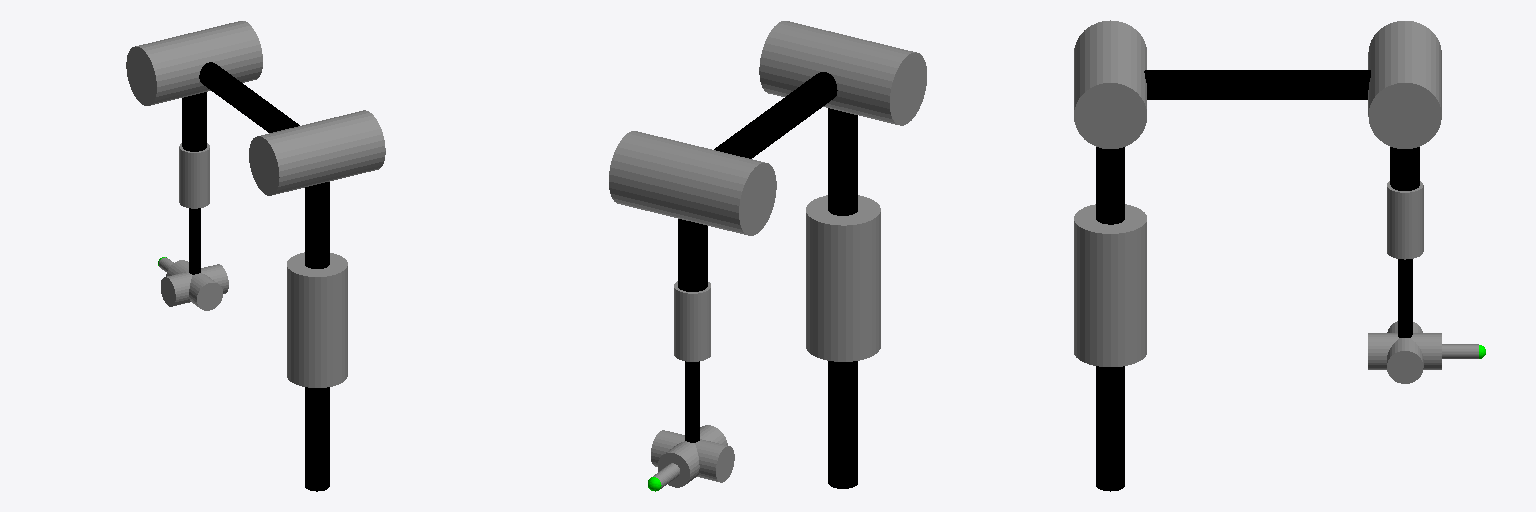
The robot description file, URDF, robot "sixdof":
<?xml version="1.0"?>

<robot name="sixdof">
  
  <!-- *************************************************** -->
  <!-- ******************** Kinematics ******************* -->
  <!-- *************************************************** -->

  <link name="world"/>

  <joint name="theta1" type="continuous">
    <parent link="world"/>
    <child  link="link1"/>
    <origin xyz="0 0 0.6" rpy="0 0 0"/>
    <axis   xyz="0 0 1"/>
    <dynamics damping="5.0"/>
  </joint>

  <link name="link1"/>

  <joint name="theta2" type="continuous">
    <parent link="link1"/>
    <child  link="link2"/>
    <origin xyz="0 0 0" rpy="0 0 0"/>
    <axis   xyz="1 0 0"/>
    <dynamics damping="5.0"/>
  </joint>

  <link name="link2"/>

  <joint name="attach-shoulder" type="fixed">
    <parent link="link2"/>
    <child  link="shoulder"/>
  </joint>

  <link name="shoulder"/>

  <joint name="theta3" type="continuous">
    <parent link="link2"/>
    <child  link="link3"/>
    <origin xyz="0 0.4 0" rpy="-1.5708 0 0"/>
    <axis   xyz="1 0 0 "/>
    <dynamics damping="1.0"/>
  </joint>

  <link name="link3"/>

  <joint name="attach-elbow" type="fixed">
    <parent link="link3"/>
    <child  link="elbow"/>
  </joint>

  <link name="elbow"/>

  <joint name="theta4" type="continuous">
    <parent link="link3"/>
    <child  link="link4"/>
    <origin xyz="0 0.4 0" rpy="0 0 0"/>
    <axis   xyz="0 1 0"/>
    <dynamics damping="0.2"/>
  </joint>

  <link name="link4"/>

  <joint name="theta5" type="continuous">
    <parent link="link4"/>
    <child  link="link5"/>
    <origin xyz="0 0 0" rpy="0 0 0"/>
    <axis   xyz="0 0 1"/>
    <dynamics damping="0.2"/>
  </joint>

  <link name="link5"/>

  <joint name="theta6" type="continuous">
    <parent link="link5"/>
    <child  link="link6"/>
    <origin xyz="0 0 0" rpy="0 0 0"/>
    <axis   xyz="1 0 0"/>
    <dynamics damping="0.2"/>
  </joint>

  <link name="link6"/>

  <joint name="final" type="fixed">
    <parent link="link6"/>
    <child  link="tip"/>
    <origin xyz="0 0 0.1" rpy="1.5708 0 0"/>
  </joint>

  <link name="tip"/>


  <!-- *************************************************** -->
  <!-- ******************* RVIZ Colors ******************* -->
  <!-- *************************************************** -->

  <material name="white">    <color rgba="1.00 1.00 1.00 1"/>  </material>
  <material name="gray">     <color rgba="0.60 0.60 0.60 1"/>  </material>
  <material name="table">    <color rgba="0.85 0.77 0.77 1"/>  </material>
  <material name="black">    <color rgba="0.00 0.00 0.00 1"/>  </material>

  <material name="red">      <color rgba="1.00 0.00 0.00 1"/>  </material>
  <material name="green">    <color rgba="0.00 1.00 0.00 1"/>  </material>
  <material name="blue">     <color rgba="0.00 0.00 1.00 1"/>  </material>

  <material name="cyan">     <color rgba="0.00 1.00 1.00 1"/>  </material>
  <material name="magenta">  <color rgba="1.00 0.00 1.00 1"/>  </material>
  <material name="yellow">   <color rgba="1.00 1.00 0.00 1"/>  </material>

  <material name="orange">   <color rgba="1.00 0.65 0.00 1"/>  </material>


  <!-- *************************************************** -->
  <!-- ****** Building Blocks (Visual AND Inertial) ****** -->
  <!-- *************************************************** -->

  <!-- *** World-Fixed: Mount 1, Motor 1 *** -->

  <joint name="attach-mount1" type="fixed">
    <parent link="world"/>
    <child  link="mount1"/>
  </joint>
  <link name="mount1">
    <visual>
      <origin xyz="0 0 0.1" rpy="0 0 0"/>
      <geometry>
	<cylinder length="0.2" radius="0.02"/>
      </geometry>
      <material name="black"/>
    </visual>
    <collision>
      <origin xyz="0 0 0.1" rpy="0 0 0"/>
      <geometry>
	<cylinder length="0.2" radius="0.02"/>
      </geometry>
    </collision>
    <inertial>
      <origin xyz="0 0 0.1" rpy="0 0 0"/>
      <mass value="0.2"/>
      <inertia
        ixx="0.000687" ixy="0.0" ixz="0.0"
        iyy="0.000687" iyz="0.0"
        izz="0.000040"/>
    </inertial>
  </link>

  <joint name="attach-motor1" type="fixed">
    <parent link="world"/>
    <child  link="motor1"/>
  </joint>
  <link name="motor1">
    <visual>
      <origin xyz="0 0 0.3" rpy="0 0 0"/>
      <geometry>
	<cylinder length="0.2" radius="0.05"/>
      </geometry>
      <material name="gray"/>
    </visual>
    <collision>
      <origin xyz="0 0 0.3" rpy="0 0 0"/>
      <geometry>
	<cylinder length="0.2" radius="0.05"/>
      </geometry>
    </collision>
    <inertial>
      <origin xyz="0 0 0.3" rpy="0 0 0"/>
      <mass value="2.0"/>
      <inertia
        ixx="0.007917" ixy="0.0" ixz="0.0"
        iyy="0.007917" iyz="0.0"
        izz="0.002500"/>
    </inertial>
  </link>

  <!-- *** Motor 1 Output: Mount 2, Motor 2 *** -->

  <joint name="attach-mount2" type="fixed">
    <parent link="link1"/>
    <child  link="mount2"/>
  </joint>
  <link name="mount2">
    <visual>
      <origin xyz="0 0 -0.1" rpy="0 0 0"/>
      <geometry>
	<cylinder length="0.2" radius="0.02"/>
      </geometry>
      <material name="black"/>
    </visual>
    <collision>
      <origin xyz="0 0 -0.1" rpy="0 0 0"/>
      <geometry>
	<cylinder length="0.2" radius="0.02"/>
      </geometry>
    </collision>
    <inertial>
      <origin xyz="0 0 -0.1" rpy="0 0 0"/>
      <mass value="0.2"/>
      <inertia
        ixx="0.000687" ixy="0.0" ixz="0.0"
        iyy="0.000687" iyz="0.0"
        izz="1.000040"/>
    </inertial>
  </link>

  <joint name="attach-motor2" type="fixed">
    <parent link="link1"/>
    <child  link="motor2"/>
  </joint>
  <link name="motor2">
    <visual>
      <origin xyz="0 0 0" rpy="0 1.5708 0"/>
      <geometry>
	<cylinder length="0.2" radius="0.05"/>
      </geometry>
      <material name="gray"/>
    </visual>
    <collision>
      <origin xyz="0 0 0" rpy="0 1.5708 0"/>
      <geometry>
	<cylinder length="0.2" radius="0.05"/>
      </geometry>
    </collision>
    <inertial>
      <origin xyz="0 0 0" rpy="0 1.5708 0"/>
      <mass value="2.0"/>
      <inertia
        ixx="0.007917" ixy="0.0" ixz="0.0"
        iyy="0.007917" iyz="0.0"
        izz="0.002500"/>
    </inertial>
  </link>

  <!-- *** Motor 2 Output: Mount 3, Motor 3 *** -->

  <joint name="attach-mount3" type="fixed">
    <parent link="link2"/>
    <child  link="mount3"/>
  </joint>
  <link name="mount3">
    <visual>
      <origin xyz="0 0.1 0" rpy="1.5708 0 0"/>
      <geometry>
	<cylinder length="0.2" radius="0.02"/>
      </geometry>
      <material name="black"/>
    </visual>
    <collision>
      <origin xyz="0 0.1 0" rpy="1.5708 0 0"/>
      <geometry>
	<cylinder length="0.2" radius="0.02"/>
      </geometry>
    </collision>
    <inertial>
      <origin xyz="0 0.1 0" rpy="1.5708 0 0"/>
      <mass value="0.2"/>
      <inertia
        ixx="1.000687" ixy="0.0" ixz="0.0"
        iyy="0.000687" iyz="0.0"
        izz="0.000040"/>
    </inertial>
  </link>

  <!-- <joint name="attach-motor3" type="fixed">
    <parent link="link2"/>
    <child  link="motor3"/>
  </joint>
  <link name="motor3">
    <visual>
      <origin xyz="0 0.2 0" rpy="1.5708 0 0"/>
      <geometry>
	<cylinder length="0.2" radius="0.05"/>
      </geometry>
      <material name="gray"/>
    </visual>
    <collision>
      <origin xyz="0 0.2 0" rpy="1.5708 0 0"/>
      <geometry>
	<cylinder length="0.2" radius="0.05"/>
      </geometry>
    </collision>
    <inertial>
      <origin xyz="0 0.2 0" rpy="1.5708 0 0"/>
      <mass value="2.0"/>
      <inertia
        ixx="0.007917" ixy="0.0" ixz="0.0"
        iyy="0.007917" iyz="0.0"
        izz="0.002500"/>
    </inertial>
  </link> -->

  <!-- *** Motor 3 Output: Mount 4, Motor 4 *** -->

  <joint name="attach-mount4" type="fixed">
    <parent link="link2"/>
    <child  link="mount4"/>
  </joint>
  <link name="mount4">
    <visual>
      <origin xyz="0 0.3 0" rpy="1.5708 0 0"/>
      <geometry>
	<cylinder length="0.2" radius="0.02"/>
      </geometry>
      <material name="black"/>
    </visual>
    <collision>
      <origin xyz="0 0.3 0" rpy="1.5708 0 0"/>
      <geometry>
	<cylinder length="0.2" radius="0.02"/>
      </geometry>
    </collision>
    <inertial>
      <origin xyz="0 0.3 0" rpy="1.5708 0 0"/>
      <mass value="0.2"/>
      <inertia
        ixx="0.000687" ixy="0.0" ixz="0.0"
        iyy="0.000687" iyz="0.0"
        izz="1.000040"/>
    </inertial>
  </link>

  <joint name="attach-motor3" type="fixed">
    <parent link="link2"/>
    <child  link="motor3"/>
  </joint>
  <link name="motor3">
    <visual>
      <origin xyz="0 0.4 0" rpy="0 1.5708 0"/>
      <geometry>
	<cylinder length="0.2" radius="0.05"/>
      </geometry>
      <material name="gray"/>
    </visual>
    <collision>
      <origin xyz="0 0.4 0" rpy="0 1.5708 0"/>
      <geometry>
	<cylinder length="0.2" radius="0.05"/>
      </geometry>
    </collision>
    <inertial>
      <origin xyz="0 0.4 0" rpy="0 1.5708 0"/>
      <mass value="2.0"/>
      <inertia
        ixx="0.007917" ixy="0.0" ixz="0.0"
        iyy="0.007917" iyz="0.0"
        izz="0.002500"/>
    </inertial>
  </link>

  <!-- *** Motor 4 Output: Mount 5, Motor 5 *** -->

  <joint name="attach-mount5" type="fixed">
    <parent link="link3"/>
    <child  link="mount5"/>
  </joint>
  <link name="mount5">
    <visual>
      <origin xyz="0 0.1 0" rpy="1.5708 0 0"/>
      <geometry>
	<cylinder length="0.2" radius="0.02"/>
      </geometry>
      <material name="black"/>
    </visual>
    <collision>
      <origin xyz="0 0.1 0" rpy="1.5708 0 0"/>
      <geometry>
	<cylinder length="0.2" radius="0.02"/>
      </geometry>
    </collision>
    <inertial>
      <origin xyz="0 0.1 0" rpy="1.5708 0 0"/>
      <mass value="0.2"/>
      <inertia
        ixx="0.500687" ixy="0.0" ixz="0.0"
        iyy="0.000687" iyz="0.0"
        izz="0.000040"/>
    </inertial>
  </link>

  <joint name="attach-motor4" type="fixed">
    <parent link="link3"/>
    <child  link="motor4"/>
  </joint>
  <link name="motor4">
    <visual>
      <origin xyz="0 0.2 0" rpy="1.5708 0 0"/>
      <geometry>
	<cylinder length="0.1" radius="0.025"/>
      </geometry>
      <material name="gray"/>
    </visual>
    <collision>
      <origin xyz="0 0.2 0" rpy="1.5708 0 0"/>
      <geometry>
	<cylinder length="0.1" radius="0.025"/>
      </geometry>
    </collision>
    <inertial>
      <origin xyz="0 0.2 0" rpy="1.5708 0 0"/>
      <mass value="1.0"/>
      <inertia
        ixx="0.000990" ixy="0.0" ixz="0.0"
        iyy="0.000990" iyz="0.0"
        izz="0.000313"/>
    </inertial>
  </link>

  <!-- *** Motor 5 Output: Mount 6, Motor 6 *** -->

  <joint name="attach-mount6" type="fixed">
    <parent link="link4"/>
    <child  link="mount6"/>
  </joint>
  <link name="mount6">
    <visual>
      <origin xyz="0 -0.1 0" rpy="1.5708 0 0"/>
      <geometry>
	<cylinder length="0.2" radius="0.01"/>
      </geometry>
      <material name="black"/>
    </visual>
    <collision>
      <origin xyz="0 -0.1 0" rpy="1.5708 0 0"/>
      <geometry>
	<cylinder length="0.2" radius="0.01"/>
      </geometry>
    </collision>
    <inertial>
      <origin xyz="0 -0.1 0" rpy="1.5708 0 0"/>
      <mass value="0.1"/>
      <inertia
        ixx="0.000336" ixy="0.0" ixz="0.0"
        iyy="0.000336" iyz="0.0"
        izz="0.500005"/>
    </inertial>
  </link>

  <joint name="attach-motor5" type="fixed">
    <parent link="link4"/>
    <child  link="motor5"/>
  </joint>
  <link name="motor5">
    <visual>
      <origin xyz="0 0 0" rpy="0 0 0"/>
      <geometry>
	<cylinder length="0.1" radius="0.025"/>
      </geometry>
      <material name="gray"/>
    </visual>
    <collision>
      <origin xyz="0 0 0" rpy="0 0 0"/>
      <geometry>
	<cylinder length="0.1" radius="0.025"/>
      </geometry>
    </collision>
    <inertial>
      <origin xyz="0 0 0" rpy="0 0 0"/>
      <mass value="1.0"/>
      <inertia
        ixx="0.000990" ixy="0.0" ixz="0.0"
        iyy="0.000990" iyz="0.0"
        izz="0.000313"/>
    </inertial>
  </link>

  <!-- *** Motor 6 Output: Motor 7 *** -->

  <joint name="attach-motor6" type="fixed">
    <parent link="link5"/>
    <child  link="motor6"/>
  </joint>
  <link name="motor6">
    <visual>
      <origin xyz="0 0 0" rpy="0 1.5708 0"/>
      <geometry>
	<cylinder length="0.1" radius="0.025"/>
      </geometry>
      <material name="gray"/>
    </visual>
    <collision>
      <origin xyz="0 0 0" rpy="0 1.5708 0"/>
      <geometry>
	<cylinder length="0.1" radius="0.025"/>
      </geometry>
    </collision>
    <inertial>
      <origin xyz="0 0 0" rpy="0 1.5708 0"/>
      <mass value="1.0"/>
      <inertia
        ixx="0.500990" ixy="0.0" ixz="0.0"
        iyy="0.000990" iyz="0.0"
        izz="0.000313"/>
    </inertial>
  </link>

  <!-- *** Drawing Sphere *** -->

  <joint name="attach-sphere" type="fixed">
    <parent link="tip"/>
    <child  link="sphere"/>
  </joint>
  <link name="sphere">
    <visual>
      <origin xyz="0 0 0" rpy="0 0 0"/>
      <geometry>
	      <sphere radius="0.01"/>
      </geometry>
      <material name="green"/>
    </visual>
    <collision>
      <origin xyz="0 0 0" rpy="0 0 0"/>
      <geometry>
	      <sphere radius="0.01"/>
      </geometry>
      <material name="green"/>
    </collision>
    <inertial>
      <origin xyz="0 0 0" rpy="0 0 0"/>
      <mass value="1.0"/>
      <inertia
        ixx="0.01" ixy="0.0" ixz="0.0"
        iyy="0.01" iyz="0.0"
        izz="0.01"/>
    </inertial>
  </link>


  <joint name="attach-cylinder" type="fixed">
    <parent link="tip"/>
    <child  link="cylinder"/>
  </joint>
  <link name="cylinder">
    <visual>
      <origin xyz="0 -0.05 0" rpy="1.5708 0 0"/>
      <geometry>
	      <cylinder length="0.1" radius="0.01"/>
      </geometry>
      <material name="gray"/>
    </visual>
    <collision>
      <origin xyz="0 -0.05 0" rpy="1.5708 0 0"/>
      <geometry>
	      <cylinder length="0.1" radius="0.01"/>
      </geometry>
    </collision>
    <inertial>
      <origin xyz="0 0 0" rpy="0 1.5708 0"/>
      <mass value="1.0"/>
      <inertia
        ixx="0.500990" ixy="0.0" ixz="0.0"
        iyy="0.000990" iyz="0.0"
        izz="0.000313"/>
    </inertial>
  </link>


  <!-- *************************************************** -->
  <!-- ******************* Gazebo Colors ***************** -->
  <!-- *************************************************** -->

  <gazebo reference="motor1"> <material>Gazebo/Gray</material>  </gazebo>
  <gazebo reference="motor2"> <material>Gazebo/Gray</material>  </gazebo>
  <gazebo reference="motor3"> <material>Gazebo/Gray</material>  </gazebo>
  <gazebo reference="motor3"> <material>Gazebo/Gray</material>  </gazebo>
  <gazebo reference="motor4"> <material>Gazebo/Gray</material>  </gazebo>
  <gazebo reference="motor5"> <material>Gazebo/Gray</material>  </gazebo>
  <gazebo reference="motor6"> <material>Gazebo/Gray</material>  </gazebo>

  <gazebo reference="mount1">   <material>Gazebo/Black</material> </gazebo>
  <gazebo reference="mount2">   <material>Gazebo/Black</material> </gazebo>
  <gazebo reference="mount3">   <material>Gazebo/Black</material> </gazebo>
  <gazebo reference="mount4">   <material>Gazebo/Black</material> </gazebo>
  <gazebo reference="mount5">   <material>Gazebo/Black</material> </gazebo>
  <gazebo reference="mount6">   <material>Gazebo/Black</material> </gazebo>

  <gazebo reference="sphere">  <material>Gazebo/Green</material>  </gazebo>

  
  <!-- *************************************************** -->
  <!-- ************** Gazebo Transmissions *************** -->
  <!-- *************************************************** -->

  <transmission name="trans1">
    <type>transmission_interface/SimpleTransmission</type>
    <joint name="theta1">
      <hardwareInterface>hardware_interface/EffortJointInterface</hardwareInterface>
    </joint>
    <actuator name="motor1">
      <mechanicalReduction>1</mechanicalReduction>
      <hardwareInterface>hardware_interface/EffortJointInterface</hardwareInterface>
    </actuator>
  </transmission>
  
  <transmission name="trans2">
    <type>transmission_interface/SimpleTransmission</type>
    <joint name="theta2">
      <hardwareInterface>hardware_interface/EffortJointInterface</hardwareInterface>
    </joint>
    <actuator name="motor2">
      <mechanicalReduction>1</mechanicalReduction>
      <hardwareInterface>hardware_interface/EffortJointInterface</hardwareInterface>
    </actuator>
  </transmission>
  
  <!-- <transmission name="trans3">
    <type>transmission_interface/SimpleTransmission</type>
    <joint name="theta3">
      <hardwareInterface>hardware_interface/EffortJointInterface</hardwareInterface>
    </joint>
    <actuator name="motor3">
      <mechanicalReduction>1</mechanicalReduction>
      <hardwareInterface>hardware_interface/EffortJointInterface</hardwareInterface>
    </actuator>
  </transmission> -->
  
  <transmission name="trans3">
    <type>transmission_interface/SimpleTransmission</type>
    <joint name="theta3">
      <hardwareInterface>hardware_interface/EffortJointInterface</hardwareInterface>
    </joint>
    <actuator name="motor3">
      <mechanicalReduction>1</mechanicalReduction>
      <hardwareInterface>hardware_interface/EffortJointInterface</hardwareInterface>
    </actuator>
  </transmission>
  
  <transmission name="trans4">
    <type>transmission_interface/SimpleTransmission</type>
    <joint name="theta4">
      <hardwareInterface>hardware_interface/EffortJointInterface</hardwareInterface>
    </joint>
    <actuator name="motor4">
      <mechanicalReduction>1</mechanicalReduction>
      <hardwareInterface>hardware_interface/EffortJointInterface</hardwareInterface>
    </actuator>
  </transmission>
  
  <transmission name="trans5">
    <type>transmission_interface/SimpleTransmission</type>
    <joint name="theta5">
      <hardwareInterface>hardware_interface/EffortJointInterface</hardwareInterface>
    </joint>
    <actuator name="motor5">
      <mechanicalReduction>1</mechanicalReduction>
      <hardwareInterface>hardware_interface/EffortJointInterface</hardwareInterface>
    </actuator>
  </transmission>
  
  <transmission name="trans6">
    <type>transmission_interface/SimpleTransmission</type>
    <joint name="theta6">
      <hardwareInterface>hardware_interface/EffortJointInterface</hardwareInterface>
    </joint>
    <actuator name="motor6">
      <mechanicalReduction>1</mechanicalReduction>
      <hardwareInterface>hardware_interface/EffortJointInterface</hardwareInterface>
    </actuator>
  </transmission>

  
  <!-- *************************************************** -->
  <!-- *************** Gazebo Controllers **************** -->
  <!-- *************************************************** -->

  <gazebo>
    <plugin name="gazebo_ros_control" filename="libgazebo_ros_control.so">
      <robotNamespace>/sixdof</robotNamespace>
      <robotSimType>gazebo_ros_control/DefaultRobotHWSim</robotSimType>
    </plugin>
  </gazebo>

</robot>

--- Render facts (derived) ---
The picture shows the robot from 3 angles, left to right: view 1: azimuth 30°, elevation 25°; view 2: azimuth 150°, elevation 25°; view 3: azimuth 270°, elevation 25°; orthographic projection.
Model sixdof with 24 links and 23 joints (6 continuous, 17 fixed), rooted at world, posed every joint at zero.
Visible links, largest first — view 1: motor2, motor1, motor3, mount1, mount2, motor4, mount4, mount5, motor6, motor5, mount3, mount6; view 2: motor3, motor1, motor2, mount1, mount2, motor4, mount3, mount5, motor6, mount4, motor5, mount6; view 3: motor1, motor3, motor2, mount1, mount3, mount4, motor4, mount2, motor5, motor6, mount5, mount6 (+1 smaller).
Link boxes in pixels (bbox=[...]): motor2: bbox=[249, 110, 385, 195]; motor1: bbox=[287, 252, 347, 387]; motor3: bbox=[126, 21, 262, 105]; mount1: bbox=[305, 387, 329, 491]; mount2: bbox=[305, 182, 329, 268]; motor4: bbox=[179, 143, 209, 208]; mount4: bbox=[199, 62, 260, 115]; mount5: bbox=[182, 92, 206, 151]; motor6: bbox=[161, 264, 228, 306]; motor5: bbox=[166, 260, 222, 310]; mount3: bbox=[245, 97, 299, 132]; mount6: bbox=[189, 208, 200, 274]; motor3: bbox=[609, 131, 776, 235]; motor1: bbox=[806, 195, 880, 361]; motor2: bbox=[759, 21, 926, 125]; mount1: bbox=[828, 361, 857, 488]; mount2: bbox=[828, 108, 857, 215]; motor4: bbox=[674, 281, 710, 361]; mount3: bbox=[761, 72, 837, 138]; mount5: bbox=[678, 219, 707, 291]; motor6: bbox=[651, 430, 734, 482]; mount4: bbox=[714, 114, 780, 158]; motor5: bbox=[658, 425, 727, 487]; mount6: bbox=[685, 361, 699, 442]; motor1: bbox=[1074, 204, 1146, 366]; motor3: bbox=[1368, 21, 1441, 148]; motor2: bbox=[1074, 20, 1146, 148]; mount1: bbox=[1096, 366, 1124, 491]; mount3: bbox=[1144, 70, 1257, 99]; mount4: bbox=[1258, 70, 1370, 99]; motor4: bbox=[1387, 181, 1423, 259]; mount2: bbox=[1096, 147, 1124, 224]; motor5: bbox=[1368, 333, 1441, 369]; motor6: bbox=[1387, 321, 1423, 383]; mount5: bbox=[1390, 147, 1419, 190]; mount6: bbox=[1398, 259, 1412, 337].
Size in the robot's own frame: 0.2 by 0.56 by 0.65 metres.
Geometry: primitives only (box / cylinder / sphere), no mesh files.